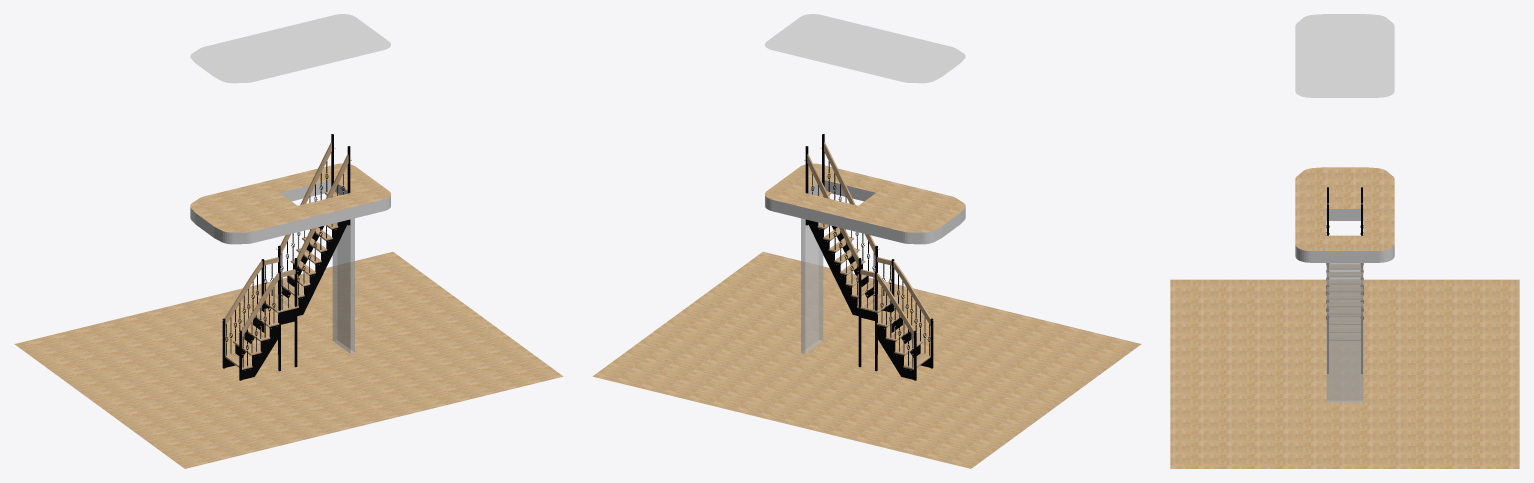
3 renders of one model, left to right at view 1: azimuth 30°, elevation 25°; view 2: azimuth 150°, elevation 25°; view 3: azimuth 270°, elevation 25°, orthographic. The views are drawn at different scales.
Visible parts, largest first — view 1: StairCon (×8); view 2: StairCon (×8); view 3: StairCon (×6).
Boxes of the visible parts, x1=… form: StairCon (×8): x1=14, y1=14, x2=563, y2=468; StairCon (×8): x1=592, y1=14, x2=1141, y2=468; StairCon (×6): x1=1170, y1=14, x2=1519, y2=468.
Bounding box in the file's own units: 8.59 × 6.7 × 6.73.
14 materials, 4 textured.
